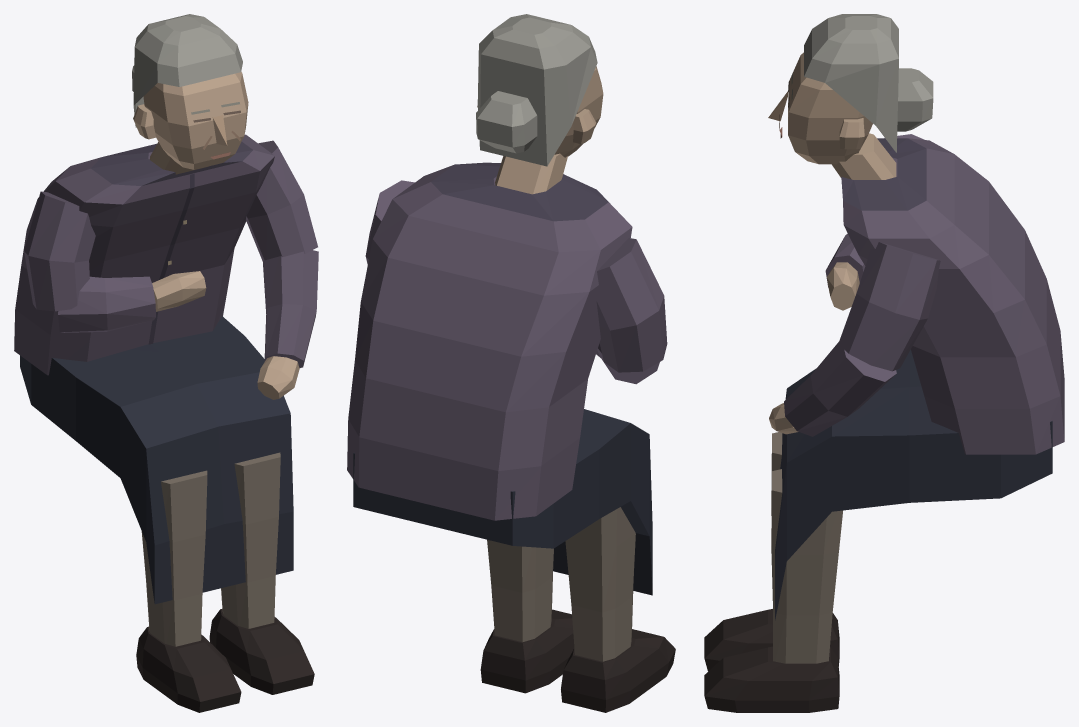
File: babka.glb
3 views of the same model, side by side, from view 1: azimuth 30°, elevation 25°; view 2: azimuth 150°, elevation 25°; view 3: azimuth 270°, elevation 25° (orthographic). The views are drawn at different scales.
Parts seen in each view (by area): view 1: Grandmother_Seated_Unwell; view 2: Grandmother_Seated_Unwell; view 3: Grandmother_Seated_Unwell.
Part boxes in pixels (x1,y1,x2,y2): Grandmother_Seated_Unwell: (14, 14, 318, 712); Grandmother_Seated_Unwell: (347, 14, 675, 712); Grandmother_Seated_Unwell: (704, 14, 1064, 712).
Bounding box in the file's own units: 0.5792 × 1.27 × 0.629.
1 material, 1 textured.
